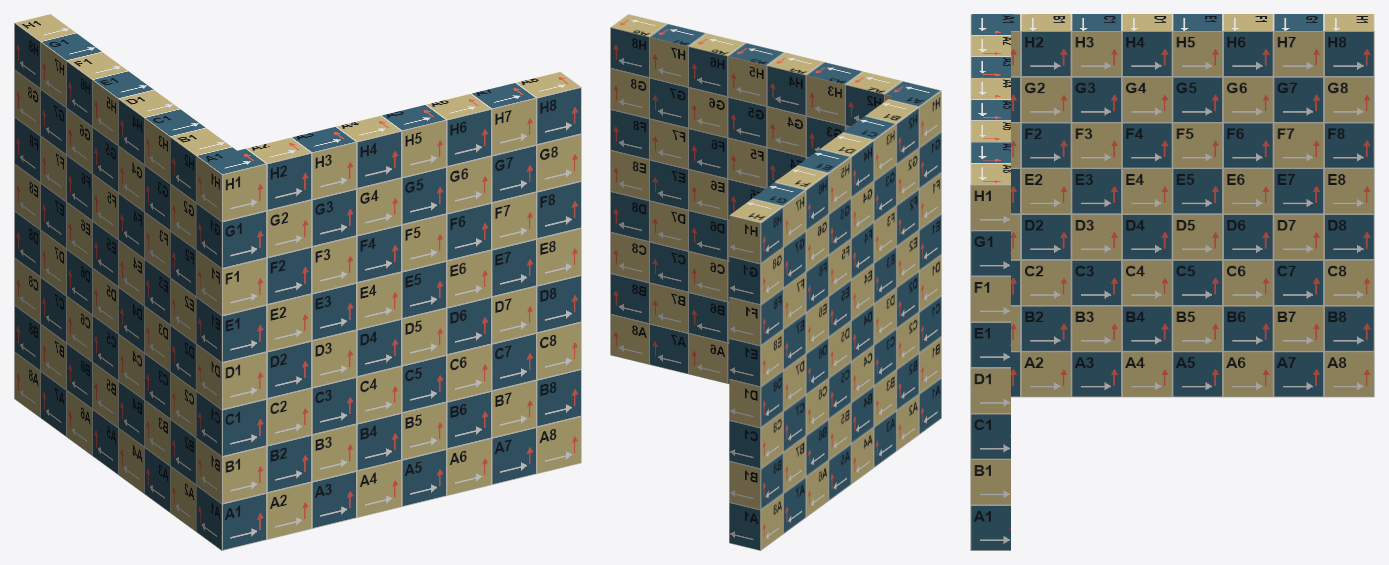
Rendered from WALL_InsideCorner.fbx.
The picture shows the model from 3 angles, left to right: view 1: azimuth 30°, elevation 25°; view 2: azimuth 150°, elevation 25°; view 3: azimuth 270°, elevation 25°; orthographic projection. The views are drawn at different scales.
Parts seen in each view (by area): view 1: WALL_InsideCorner; view 2: WALL_InsideCorner; view 3: WALL_InsideCorner.
Part boxes in pixels (x1=…): WALL_InsideCorner: x1=14, y1=14, x2=581, y2=550; WALL_InsideCorner: x1=610, y1=14, x2=941, y2=550; WALL_InsideCorner: x1=970, y1=14, x2=1374, y2=550.
Size of the model in its own units: 200 by 200 by 200.
1 material, 1 textured.
